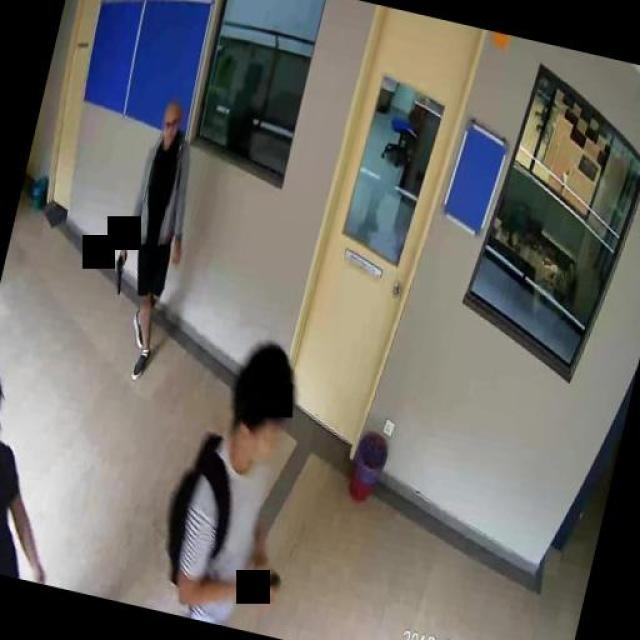gun: (108, 246, 128, 294)
